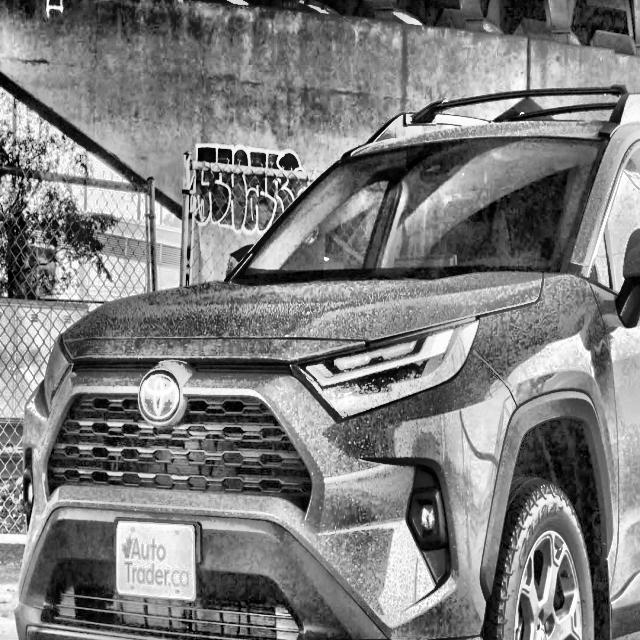light_vehicle: (12, 84, 639, 640)
